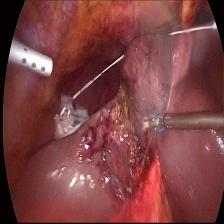Bipolar: (142, 110, 176, 140)
Irrigator: (10, 40, 56, 82)
Specimen Bag: (47, 87, 92, 143)
